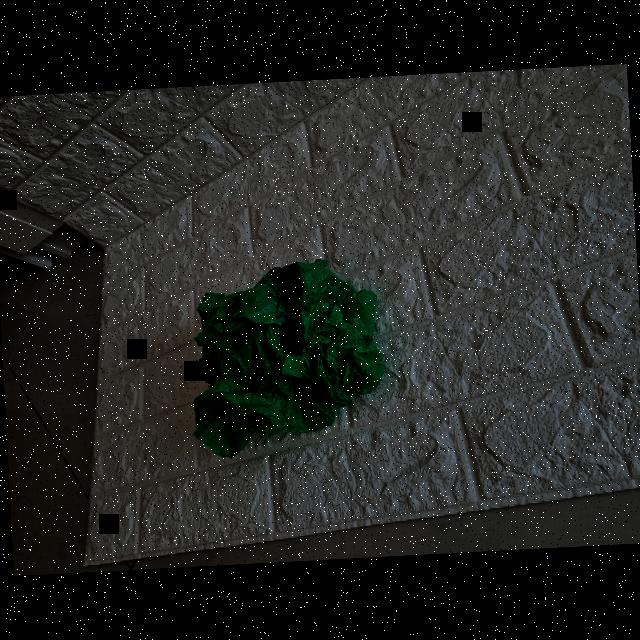plastic_bag: (183, 258, 389, 456)
